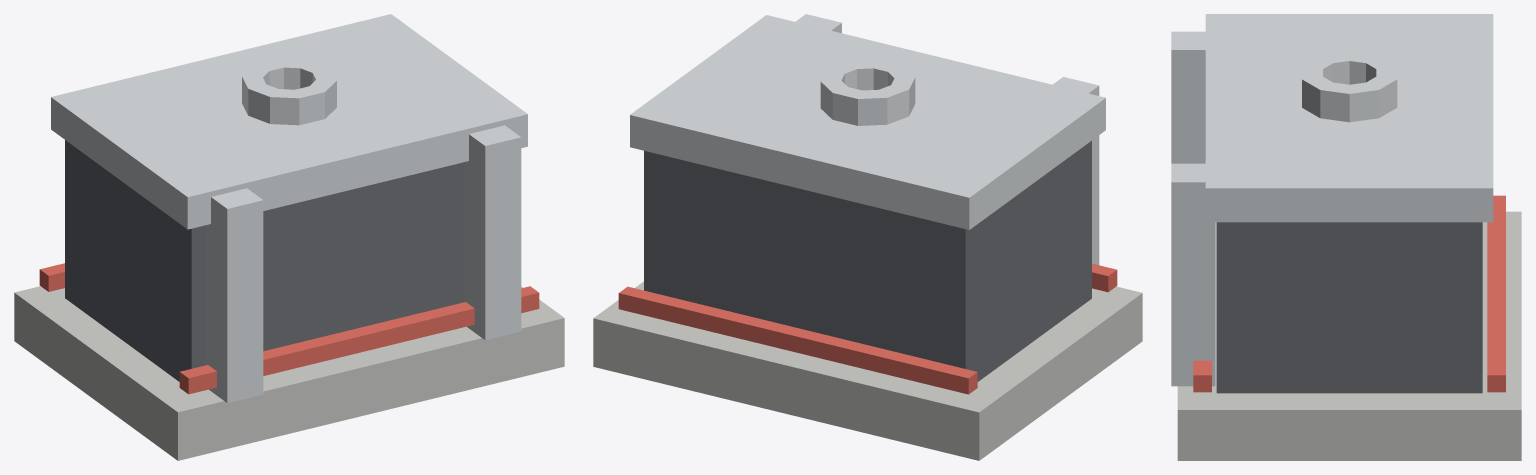
File: radio-telescope-array-and-field-station-dish-counterwe-e4a4d228__37614.glb
3 renders of one model, left to right at view 1: azimuth 30°, elevation 25°; view 2: azimuth 150°, elevation 25°; view 3: azimuth 270°, elevation 25°, orthographic. The views are drawn at different scales.
Parts seen in each view (by area): view 1: dish-counterweight-block; view 2: dish-counterweight-block; view 3: dish-counterweight-block.
Boxes of the visible parts, left/top/right/bottom form: dish-counterweight-block: left=14, top=14, right=564, bottom=460; dish-counterweight-block: left=593, top=14, right=1142, bottom=460; dish-counterweight-block: left=1171, top=14, right=1521, bottom=460.
Size of the model in its own units: 1.5 by 1.02 by 1.12.
